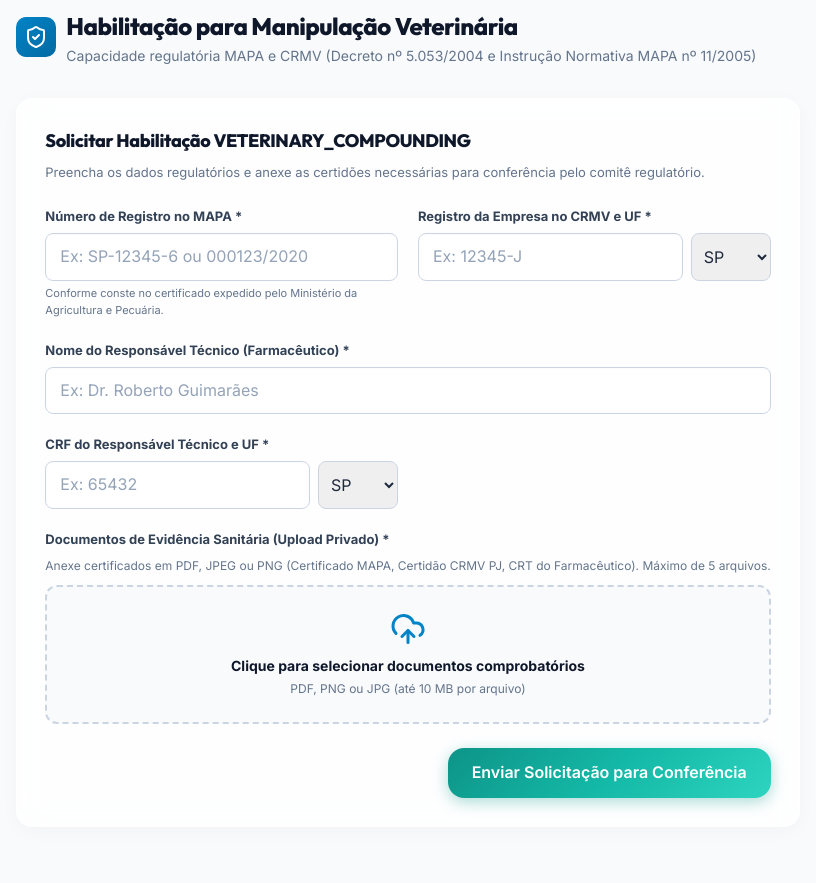
Scenario: VeterinaryCapability Component (ETAPA V5 - Testing Library) › valida formato do Registro no MAPA antes de submeter
In the field with placeholder "Ex: SP-12345-6 ou 000123/2020": (222, 257) [45, 233, 398, 281], type "invalid-mapa-form"
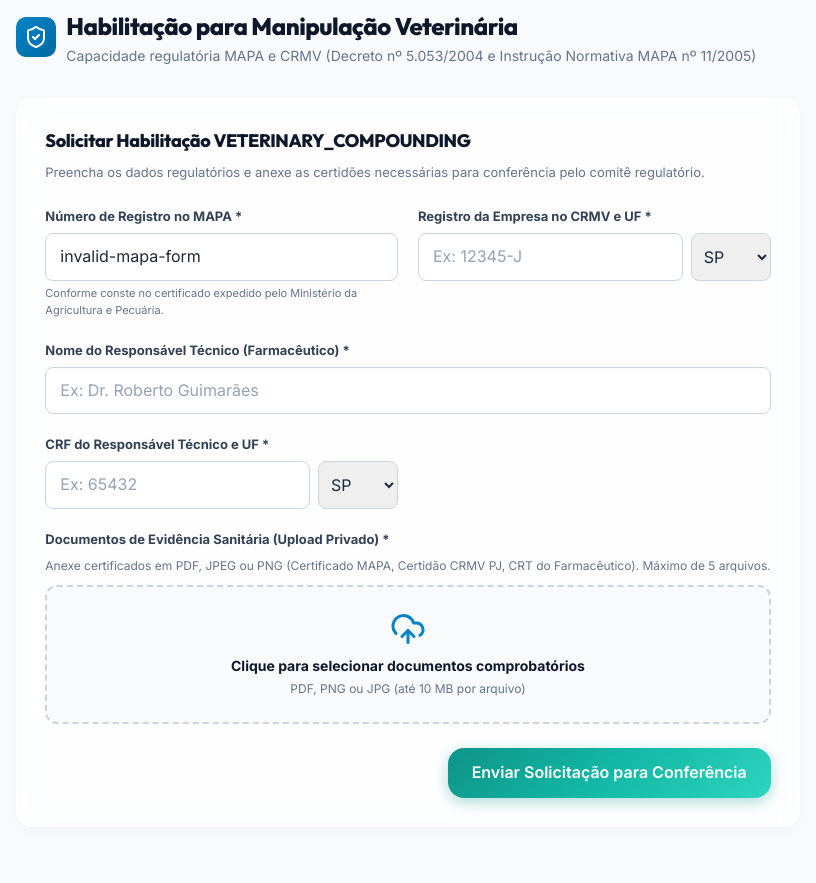
In the field with placeholder "Ex: 12345-J": (550, 257) [418, 233, 683, 281], type "12345-J"
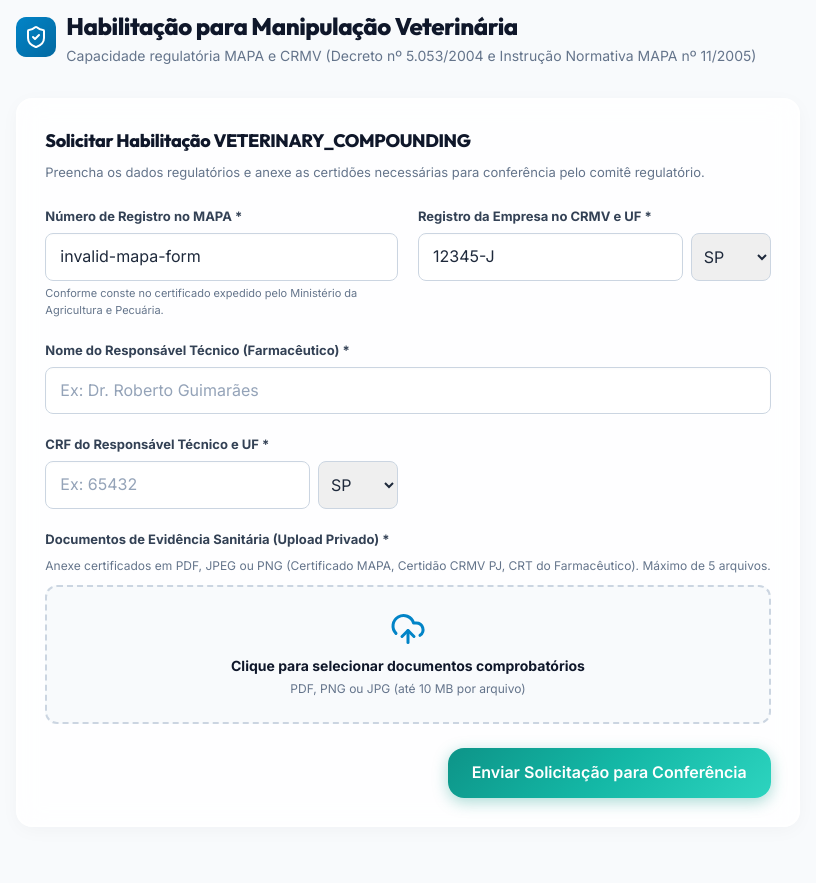
In the field with placeholder "Ex: Dr. Roberto Guimarães": (408, 391) [45, 367, 771, 414], type "Dr. Roberto"
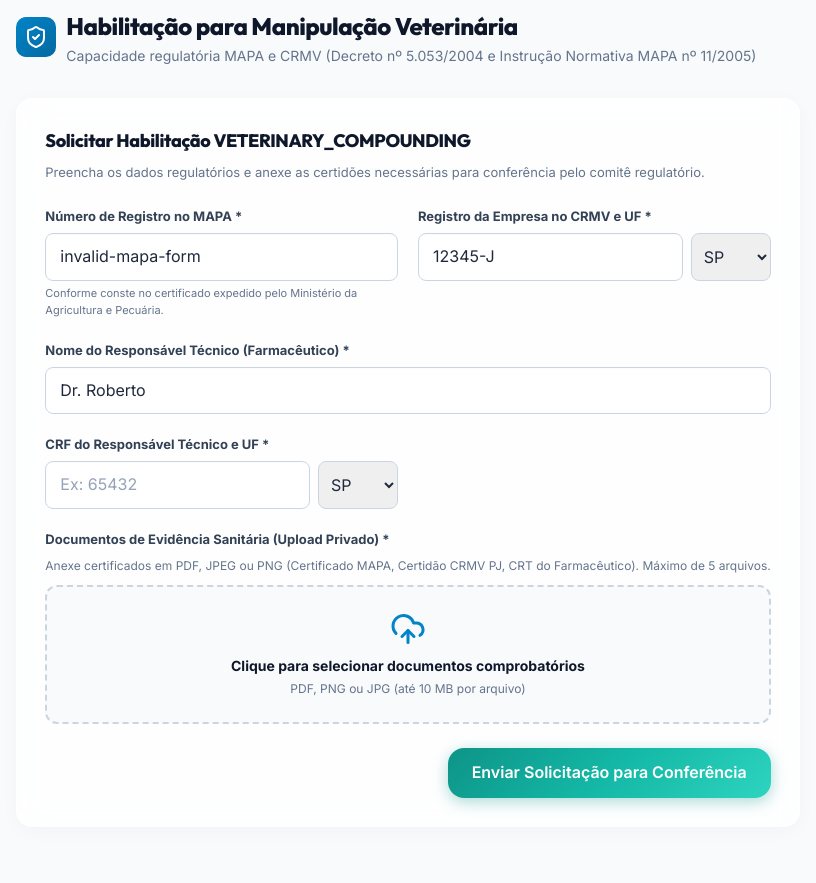
In the field with placeholder "Ex: 65432": (178, 485) [45, 461, 310, 509], type "12345"
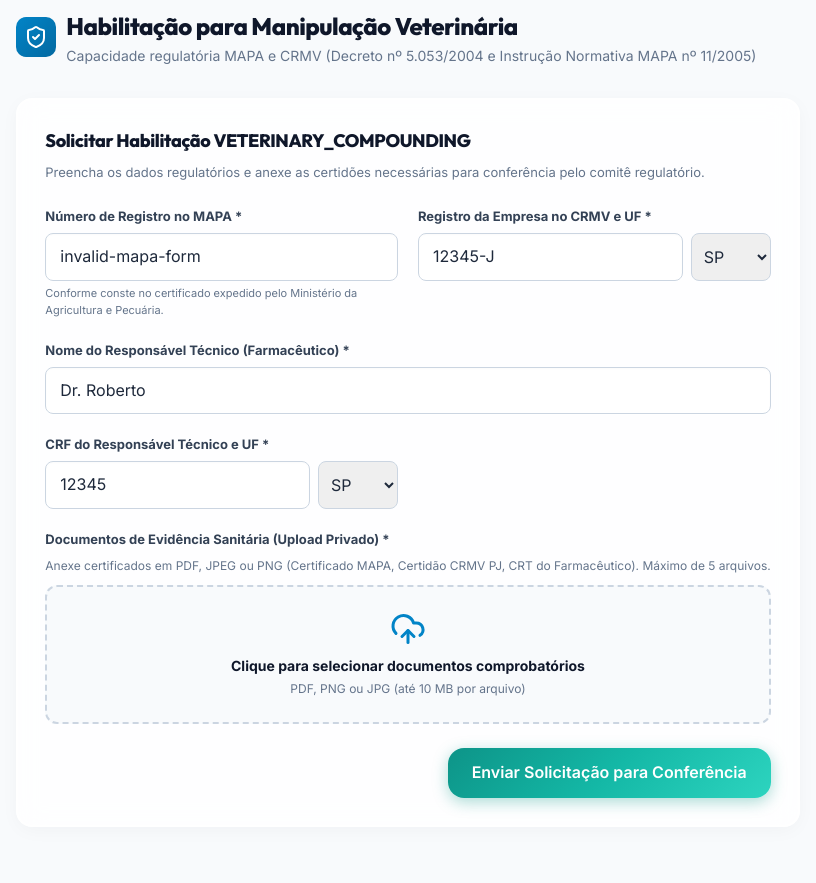
Submit the form with placeholder "SP-12345-6"
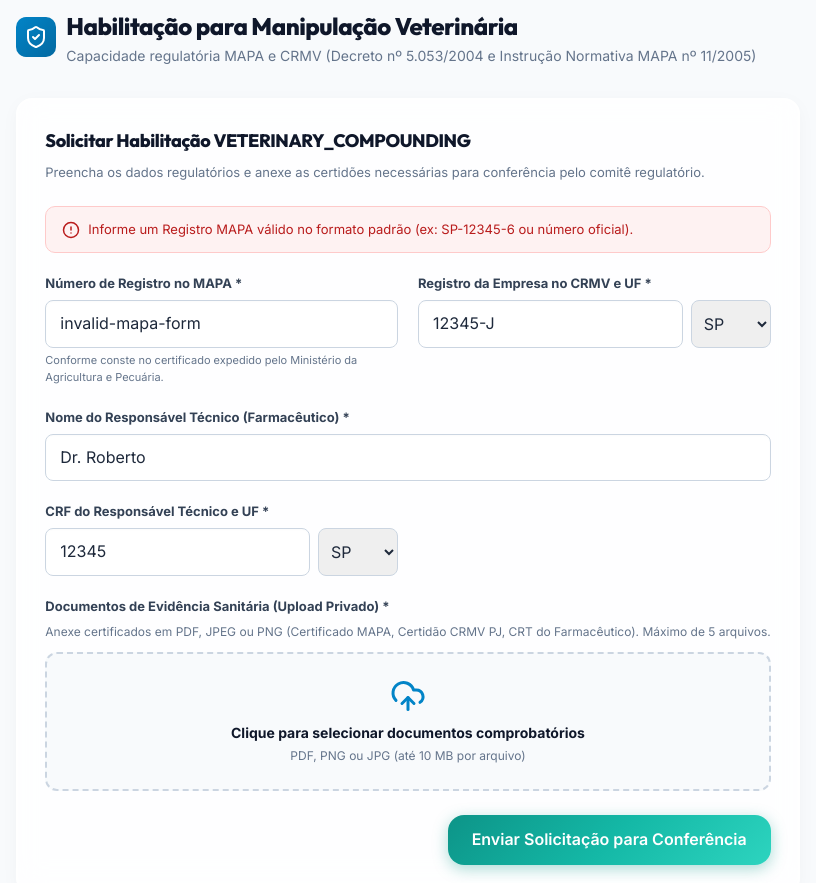
Expected: the text "Informe um Registro MAPA válido" is shown, [88, 221, 633, 237]
